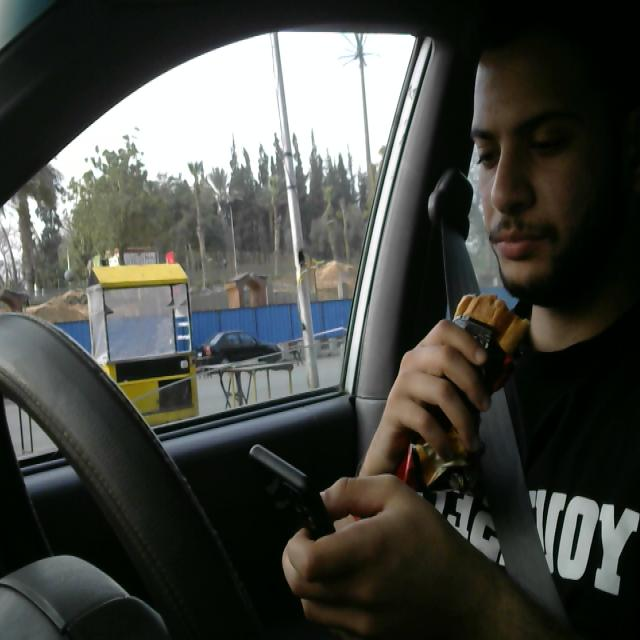phone: (248, 442, 338, 562)
